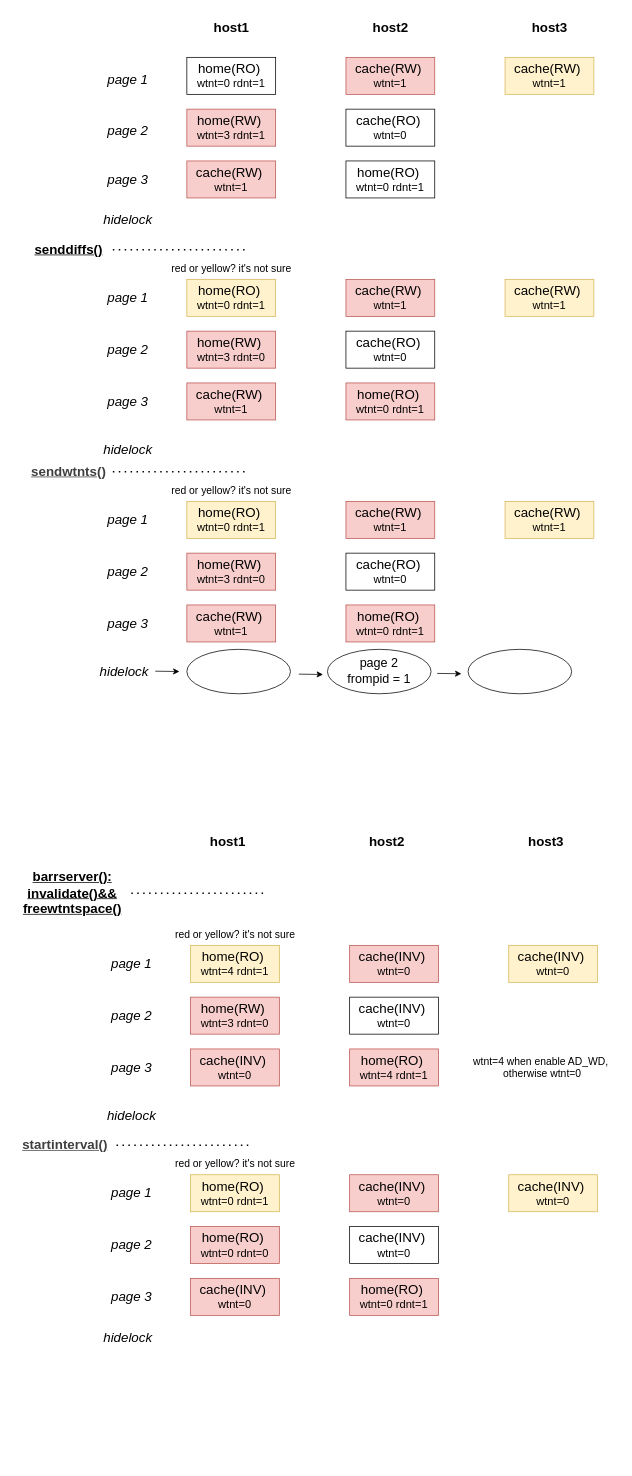
Some shapes in this 632 by 1476 pixel diagram are drawn without their labels. The centre of each missing label's shape, as x and y in pixels:
page 1 frompid = Max: pixel 238 671
page 3 frompid = 1: pixel 519 671
